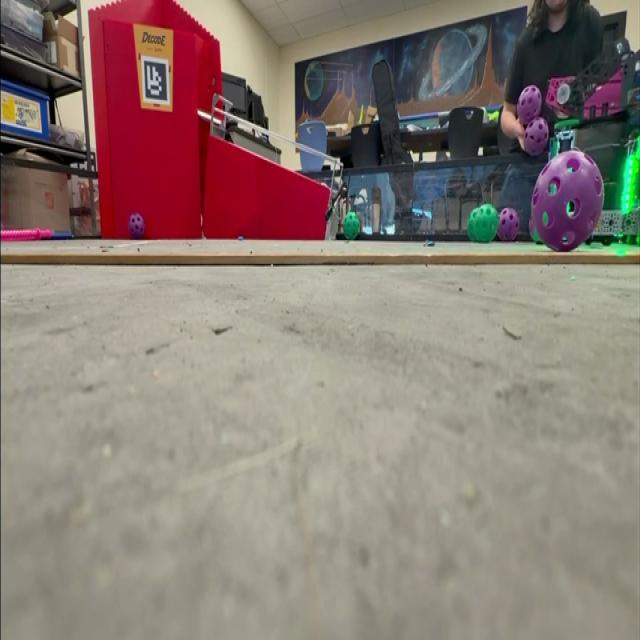artifact_green: (473, 204, 499, 243), (344, 211, 360, 239), (467, 208, 478, 241), (529, 216, 542, 243), (480, 203, 499, 215), (533, 228, 543, 243), (627, 235, 639, 246), (626, 235, 635, 245), (636, 234, 640, 246)
artifact_purple: (533, 150, 604, 251), (517, 86, 542, 126), (525, 118, 549, 157), (498, 208, 520, 242), (129, 212, 145, 239), (528, 215, 541, 244), (528, 214, 535, 238)
